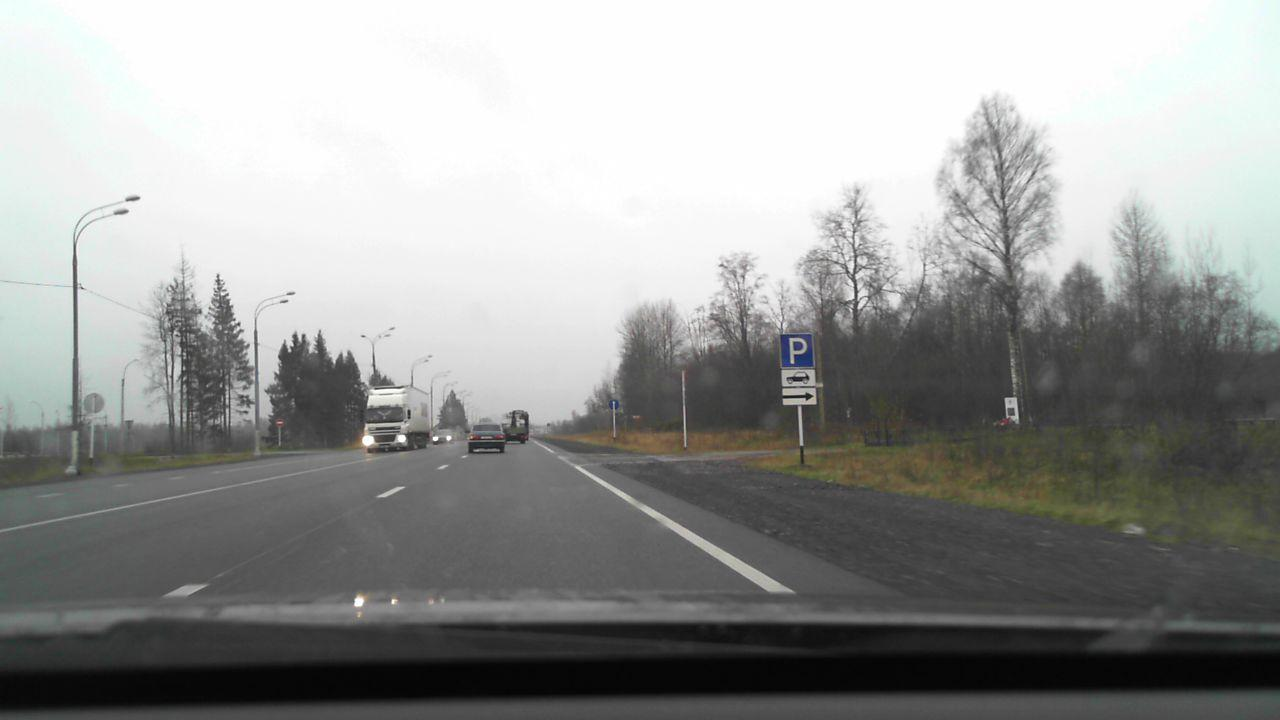4_1_1: (609, 398, 619, 410)
6_4: (777, 332, 817, 369)
8_3_1: (781, 388, 818, 406)
8_4_3_2: (781, 369, 815, 386)
